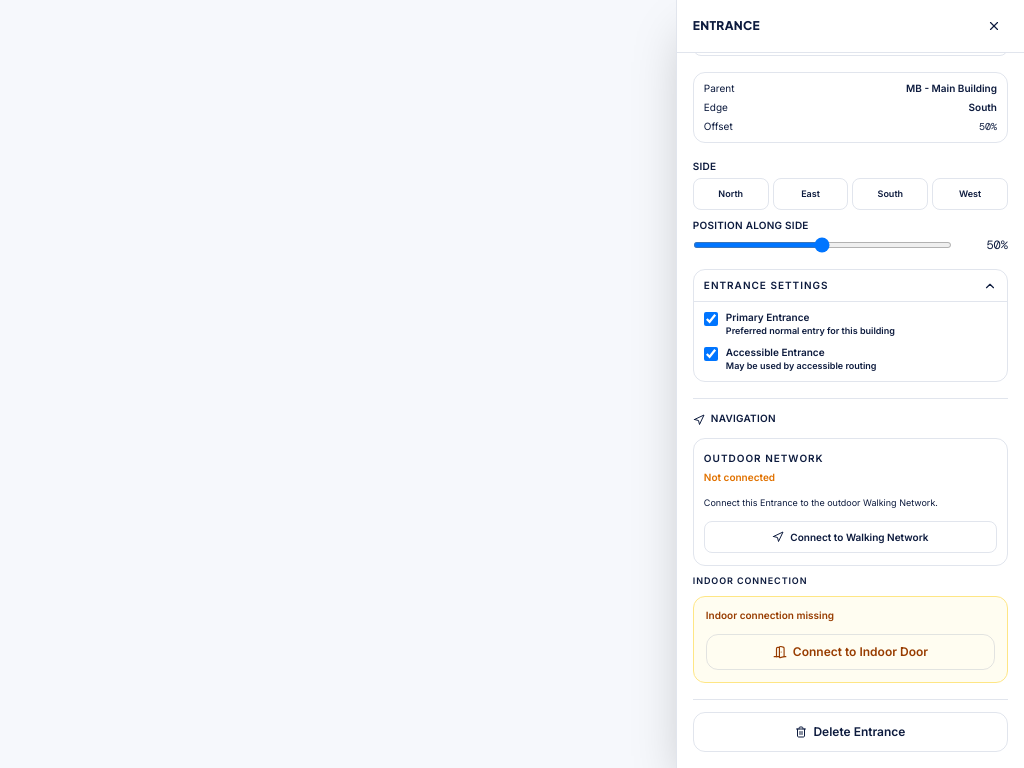
Test: B5 Phase 4.1 - entrance linking PropertiesPanel UI › renders the missing relationship state without dereferencing stale floor or Door data
The image size is (1024, 768).
(page scrolled)
Expected: the text "Indoor connection missing" is shown, [706,609,834,621]
Click the button "Connect to Indoor Door" at coordinates (850, 652), box [706,634,995,670]
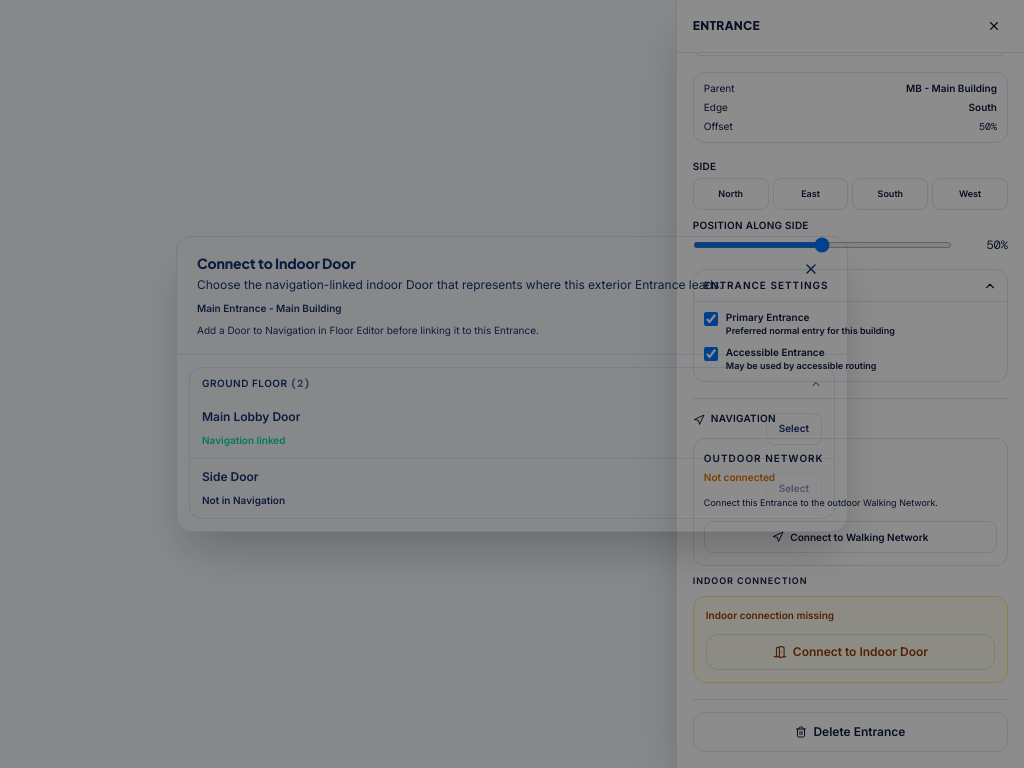
Now the element with test id "entrance-door-picker" is shown
